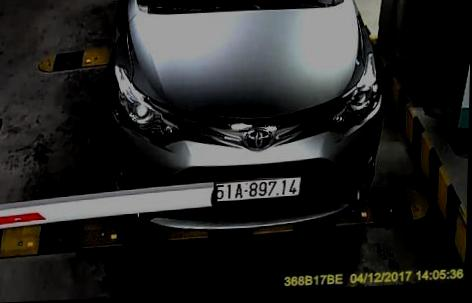License_Plate: (215, 175, 303, 204)
